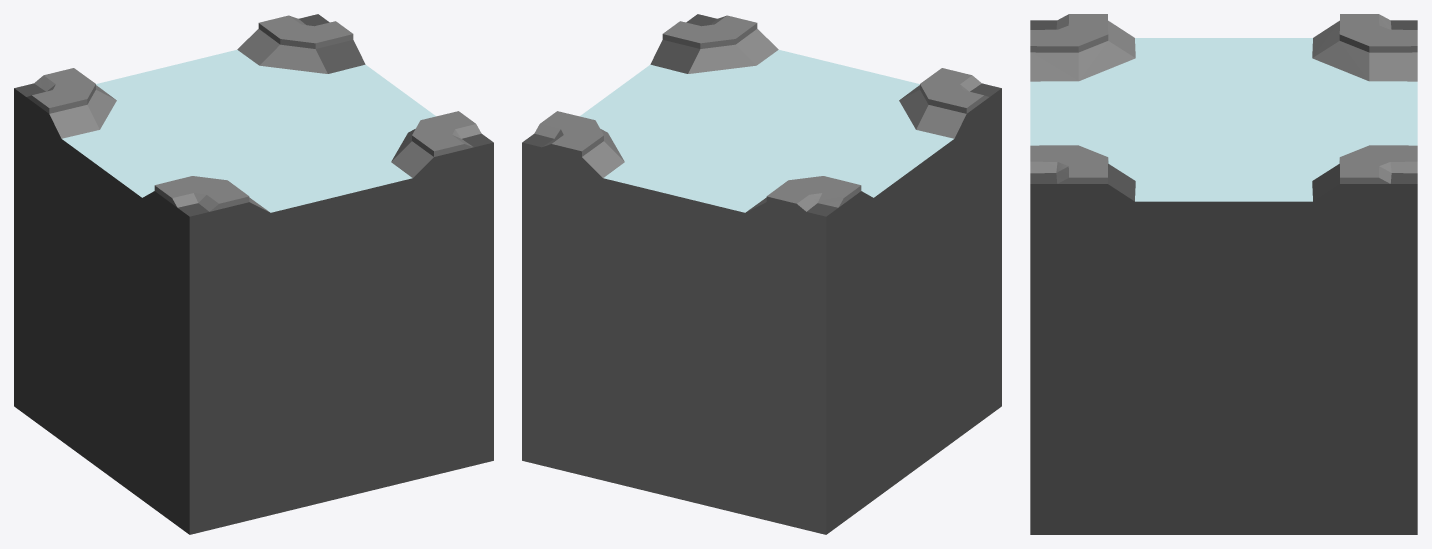
File: blockRiverCityCross.fbx
The picture shows the model from 3 angles, left to right: view 1: azimuth 30°, elevation 25°; view 2: azimuth 150°, elevation 25°; view 3: azimuth 270°, elevation 25°; orthographic projection. The views are drawn at different scales.
Parts seen in each view (by area): view 1: blockRiverCityCross; view 2: blockRiverCityCross; view 3: blockRiverCityCross.
Boxes of the visible parts, box(x1,y1,x2,y2) form: blockRiverCityCross: box(14, 14, 493, 534); blockRiverCityCross: box(522, 14, 1001, 534); blockRiverCityCross: box(1030, 14, 1417, 534).
Bounding box in the file's own units: 100 × 102 × 100.
